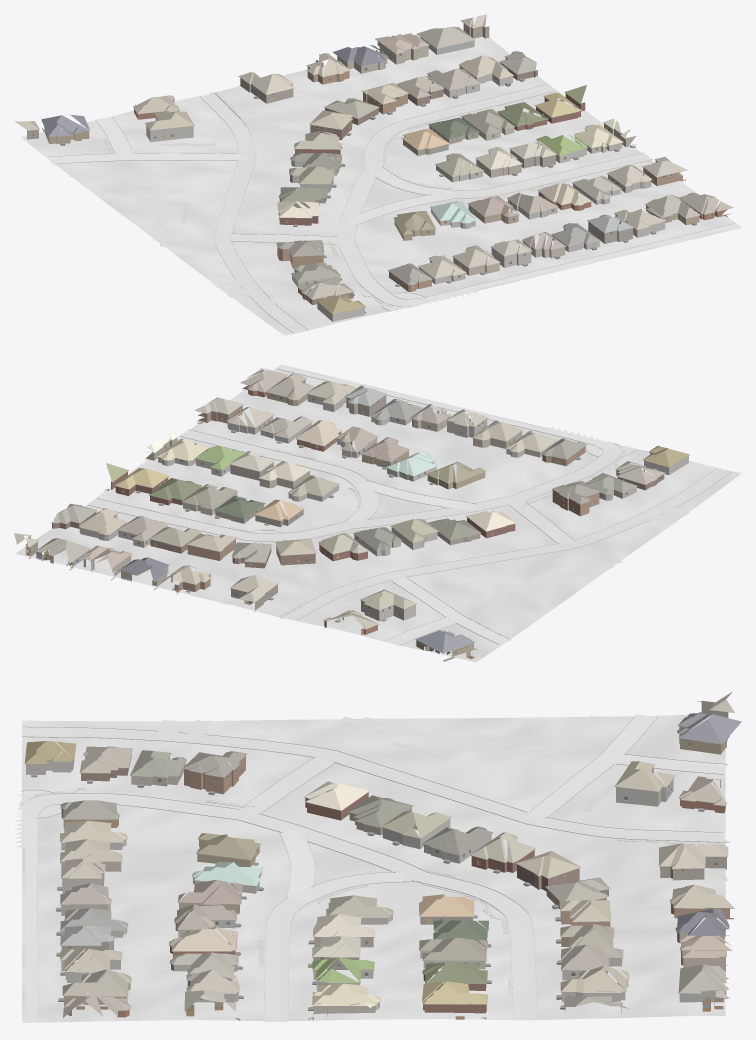
3 renders of one model, top to bottom at view 1: azimuth 30°, elevation 25°; view 2: azimuth 150°, elevation 25°; view 3: azimuth 270°, elevation 25°, orthographic. The views are drawn at different scales.
Visible parts, largest first — view 1: ground, roof, concrete, wall, asphalt, wall_stone, detail, curb, wall_stucco, walk; view 2: ground, roof, concrete, wall, asphalt, wall_stone, curb, detail, wall_stucco, walk; view 3: ground, roof, concrete, asphalt, wall, wall_stone, curb, detail, wall_stucco, walk, mark_w, mark_y (+1 smaller).
Part boxes in pixels (bbox=[...]): ground: bbox=[21, 36, 741, 335]; roof: bbox=[14, 14, 733, 314]; concrete: bbox=[69, 84, 738, 311]; wall: bbox=[27, 23, 731, 304]; asphalt: bbox=[48, 91, 307, 333]; wall_stone: bbox=[146, 66, 665, 321]; detail: bbox=[28, 21, 728, 314]; curb: bbox=[49, 84, 734, 333]; wall_stucco: bbox=[292, 37, 622, 286]; walk: bbox=[103, 91, 571, 307]; ground: bbox=[15, 364, 741, 662]; roof: bbox=[14, 368, 689, 653]; concrete: bbox=[89, 365, 689, 645]; wall: bbox=[28, 377, 664, 661]; asphalt: bbox=[279, 468, 731, 644]; wall_stone: bbox=[79, 394, 688, 621]; curb: bbox=[88, 368, 731, 645]; detail: bbox=[29, 375, 689, 654]; wall_stucco: bbox=[36, 411, 636, 580]; walk: bbox=[133, 448, 625, 632]; ground: bbox=[22, 714, 725, 1022]; roof: bbox=[24, 691, 741, 1017]; concrete: bbox=[14, 715, 727, 1021]; asphalt: bbox=[22, 714, 729, 842]; wall: bbox=[61, 701, 733, 1017]; wall_stone: bbox=[26, 760, 673, 1002]; curb: bbox=[21, 715, 730, 1021]; detail: bbox=[25, 701, 734, 1021]; wall_stucco: bbox=[61, 756, 728, 1013]; walk: bbox=[32, 743, 727, 995]; mark_w: bbox=[23, 717, 722, 881]; mark_y: bbox=[23, 716, 724, 837].
Bounding box in the file's own units: 257 × 14.17 × 259.
